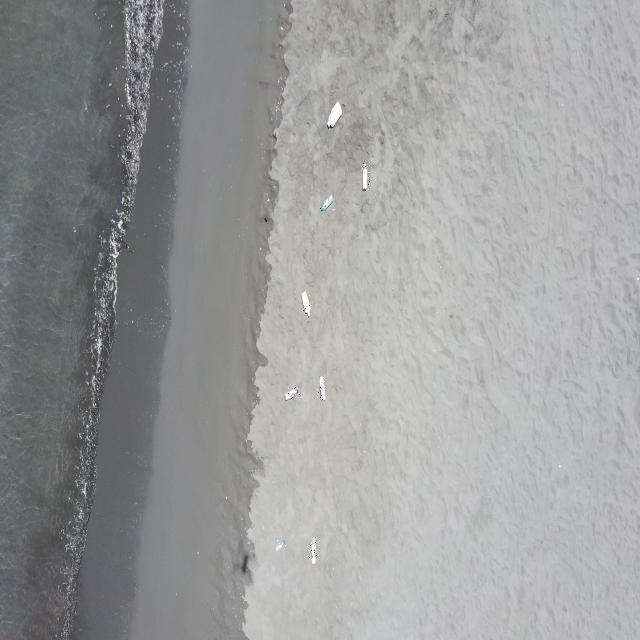Garbage: (327, 101, 340, 127), (301, 292, 310, 316), (320, 195, 332, 211), (310, 536, 316, 564), (284, 387, 296, 400), (318, 376, 324, 400), (362, 163, 367, 190), (276, 539, 286, 551)
